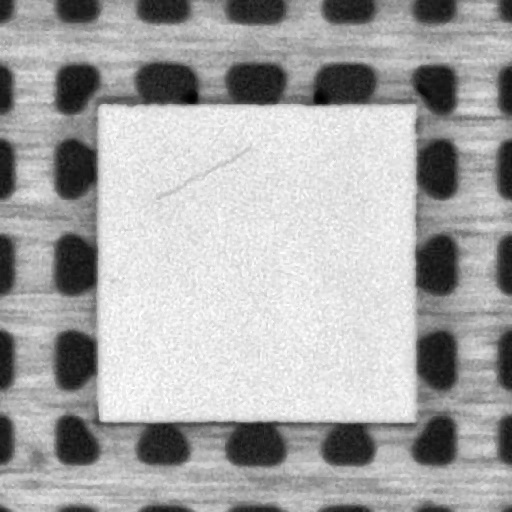DIE_CRACK: (154, 144, 252, 198)
